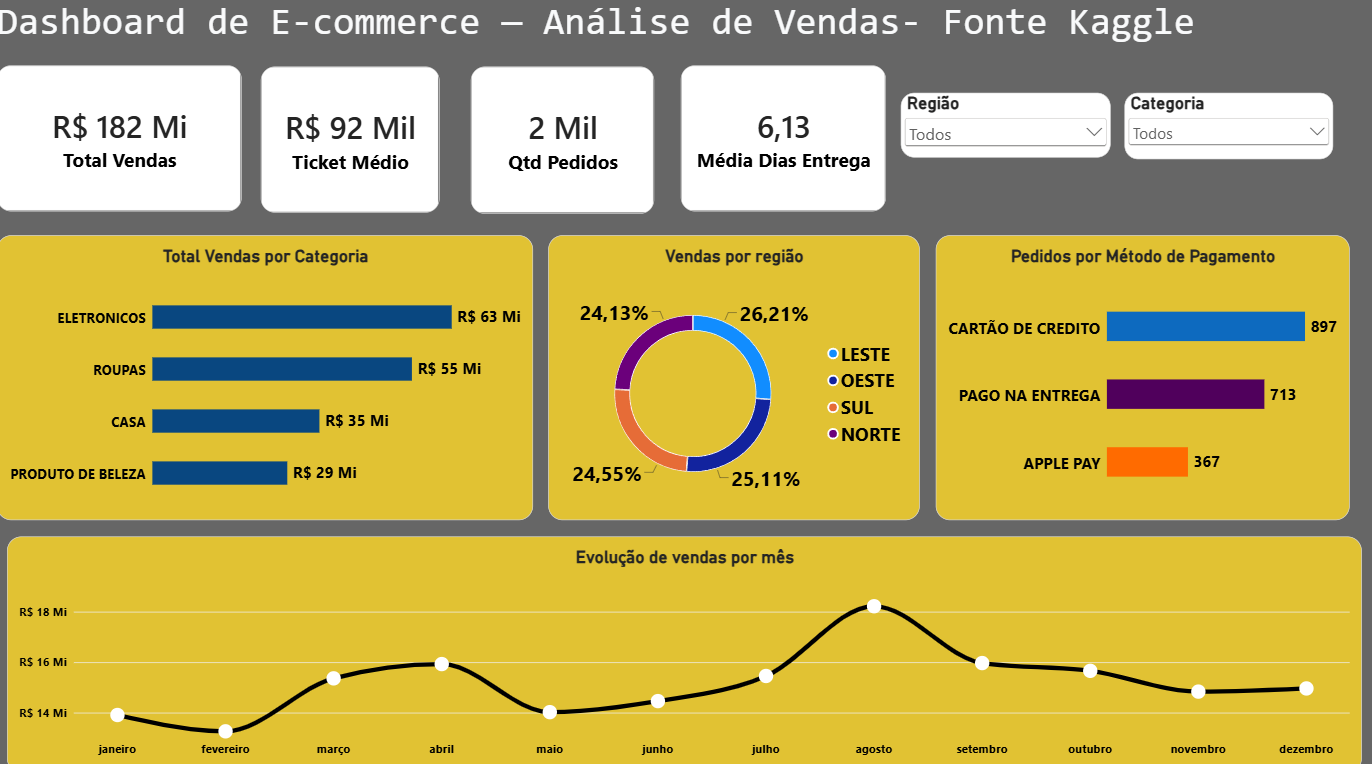

Layout of this report page (visuals, bound fields, positions):
{"tool":"powerbi","page":{"name":"Página 1","canvas":[1920,1080],"ordinal":0},"visuals":[{"type":"cardVisual","fields":{"Data":["Medidas.Total Vendas"]},"box":[0,92.4,341.9,204.1],"z":0},{"type":"cardVisual","fields":{"Data":["Medidas.Qtd Pedidos"]},"box":[661,94.2,256.4,205.8],"z":1000},{"type":"cardVisual","fields":{"Data":["Medidas.Ticket Médio"]},"box":[368,94.2,249.4,204.1],"z":2000},{"type":"cardVisual","fields":{"Data":["Medidas.Média Dias Entrega"]},"box":[954.1,92.4,286,204.1],"z":3000},{"type":"clusteredBarChart","fields":{"Category":["teste.Categoria"],"Y":["Medidas.Total Vendas"]},"box":[0,329.7,748.3,397.7],"z":4000},{"type":"donutChart","title":"Vendas por região","fields":{"Category":["teste.Região"],"Y":["Medidas.Total Vendas"]},"box":[769.2,329.7,518,397.7],"z":5000},{"type":"lineChart","title":"Evolução de vendas por mês","fields":{"Category":["teste.Data do pedido.Variation.Hierarquia de datas.Mês"],"Y":["Medidas.Total Vendas"]},"box":[14,750,1890.7,329.7],"z":6000},{"type":"textbox","box":[0,0,1749.4,94.2],"z":7000},{"type":"slicer","fields":{"Values":["teste.Categoria"]},"box":[1573.3,130.8,291.3,92.4],"z":8000},{"type":"slicer","fields":{"Values":["teste.Região"]},"box":[1261.1,130.8,293,90.7],"z":9000},{"type":"clusteredBarChart","title":"Pedidos por Método de Pagamento","fields":{"Category":["teste.Metodo de pagamento"],"Y":["Medidas.Qtd Pedidos"]},"box":[1309.9,329.7,577.3,397.7],"z":10000}]}

Visuals, with their boxes in screenshot pixels (x1, y1, x2, y2), scaled from the page's 1920x1080 canvas onto the 1372x764 screenshot:
cardVisual - Medidas.Total Vendas: detection(0, 65, 244, 210)
cardVisual - Medidas.Qtd Pedidos: detection(472, 67, 656, 212)
cardVisual - Medidas.Ticket Médio: detection(263, 67, 441, 211)
cardVisual - Medidas.Média Dias Entrega: detection(682, 65, 886, 210)
clusteredBarChart - teste.Categoria x Medidas.Total Vendas: detection(0, 233, 535, 515)
"Vendas por região" donutChart: detection(550, 233, 920, 515)
"Evolução de vendas por mês" lineChart: detection(10, 531, 1361, 763)
textbox: detection(0, 0, 1250, 67)
slicer - teste.Categoria: detection(1124, 93, 1332, 158)
slicer - teste.Região: detection(901, 93, 1111, 157)
"Pedidos por Método de Pagamento" clusteredBarChart: detection(936, 233, 1349, 515)
